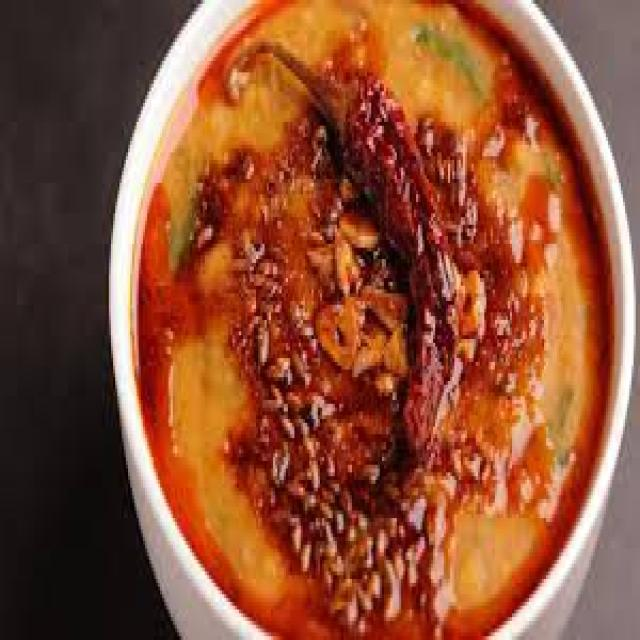dal: (202, 41, 577, 617)
